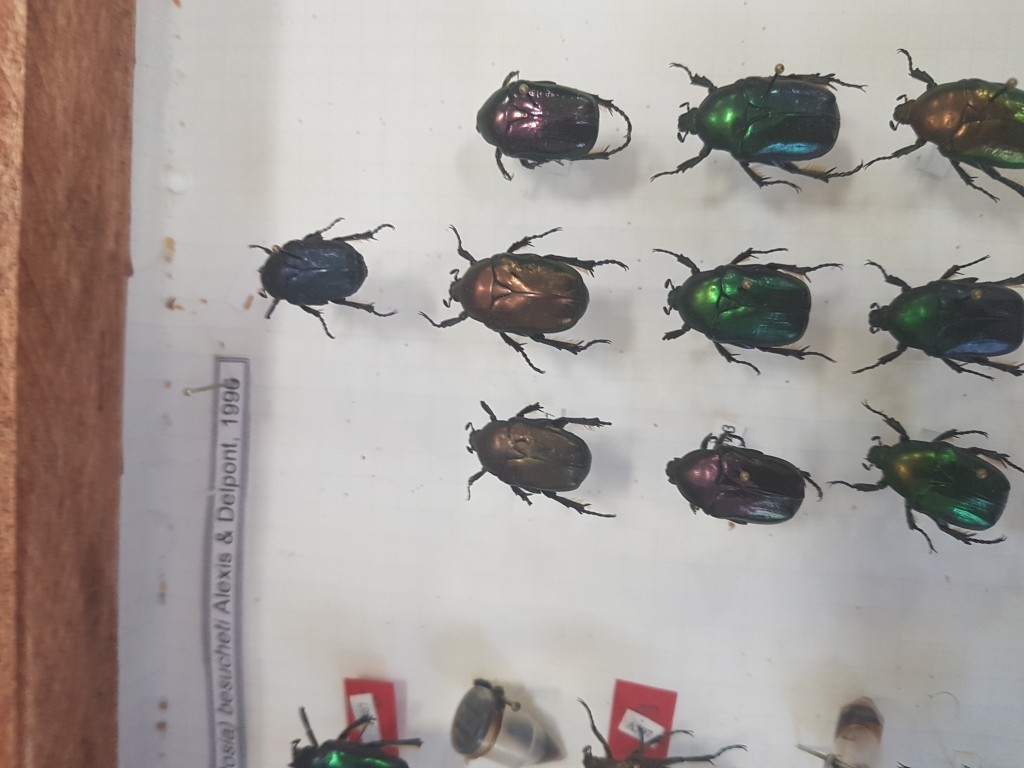Protaetia_besucheti: (655, 46, 860, 204), (415, 214, 625, 367), (645, 233, 848, 390), (439, 386, 627, 537), (860, 241, 1024, 411), (469, 57, 638, 194)
